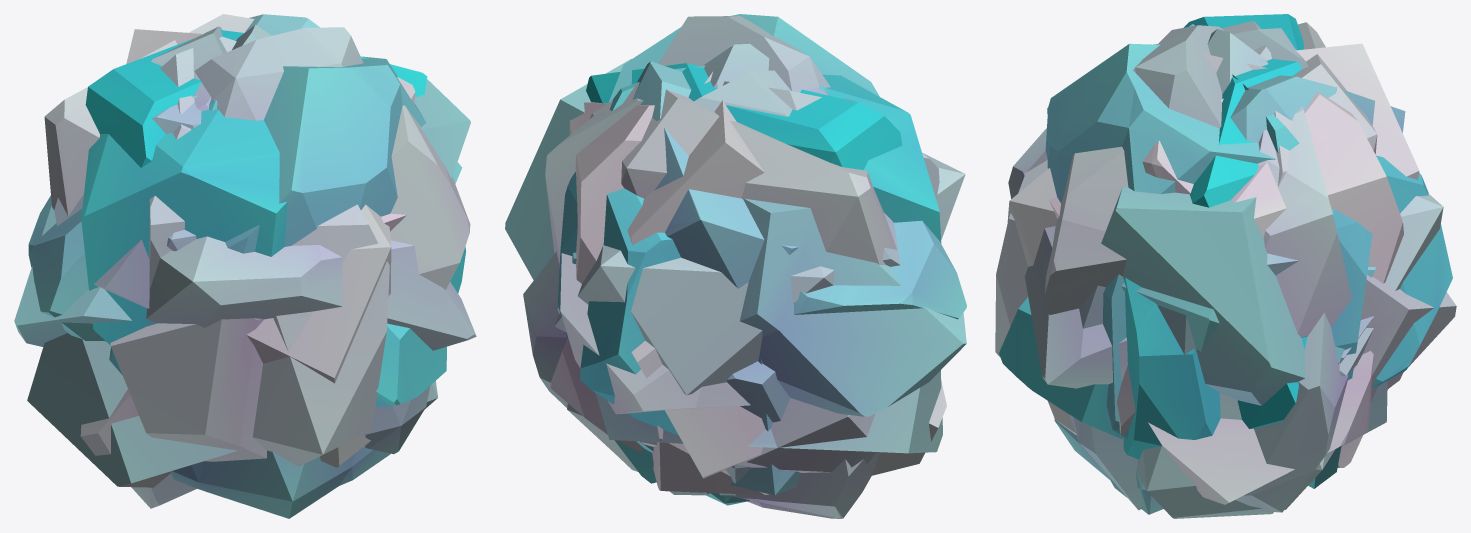
File: pedras.glb
3 views of the same model, side by side, from view 1: azimuth 30°, elevation 25°; view 2: azimuth 150°, elevation 25°; view 3: azimuth 270°, elevation 25° (orthographic). The views are drawn at different scales.
Parts seen in each view (by area): view 1: PEDRA_02, PEDRA_15, PEDRA_12, PEDRA_22, PEDRA_20, PEDRA_07, PEDRA_04, PEDRA_10, PEDRA_18, PEDRA_16, PEDRA_09, PEDRA_11 (+8 smaller); view 2: PEDRA_09, PEDRA_22, PEDRA_19, PEDRA_10, PEDRA_04, PEDRA_00, PEDRA_03, PEDRA_16, PEDRA_14, PEDRA_11, PEDRA_05, PEDRA_07 (+10 smaller); view 3: PEDRA_09, PEDRA_12, PEDRA_22, PEDRA_03, PEDRA_17, PEDRA_05, PEDRA_15, PEDRA_14, PEDRA_02, PEDRA_01, PEDRA_20, PEDRA_16 (+11 smaller).
Part boxes in pixels (x1,y1,x2,y2): PEDRA_02: (110,105,470,461); PEDRA_15: (81,109,465,345); PEDRA_12: (225,56,426,253); PEDRA_22: (146,236,476,350); PEDRA_20: (252,204,389,466); PEDRA_07: (27,103,237,486); PEDRA_04: (131,27,363,508); PEDRA_10: (171,14,390,518); PEDRA_18: (246,204,391,467); PEDRA_16: (85,30,427,167); PEDRA_09: (14,71,470,346); PEDRA_11: (28,162,462,341); PEDRA_09: (505,59,966,416); PEDRA_22: (554,152,965,395); PEDRA_19: (590,83,896,264); PEDRA_10: (633,61,801,495); PEDRA_04: (658,16,880,518); PEDRA_00: (627,100,769,495); PEDRA_03: (545,98,875,472); PEDRA_16: (586,63,902,169); PEDRA_14: (580,188,680,435); PEDRA_11: (557,220,966,319); PEDRA_05: (523,70,900,469); PEDRA_07: (595,98,942,453); PEDRA_09: (1101,186,1305,405); PEDRA_12: (1045,43,1276,439); PEDRA_22: (1008,128,1443,388); PEDRA_03: (1257,106,1351,337); PEDRA_17: (1049,91,1403,370); PEDRA_05: (1232,28,1348,512); PEDRA_15: (1047,44,1220,459); PEDRA_14: (999,155,1452,438); PEDRA_02: (1045,146,1128,315); PEDRA_01: (1148,53,1373,504); PEDRA_20: (995,151,1456,415); PEDRA_16: (1183,14,1307,428).
Bounding box in the file's own units: 1.34 × 1.31 × 1.16.
